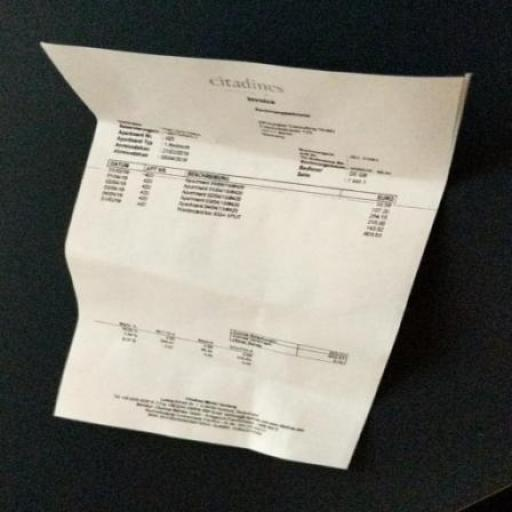paper: (23, 10, 489, 499)
